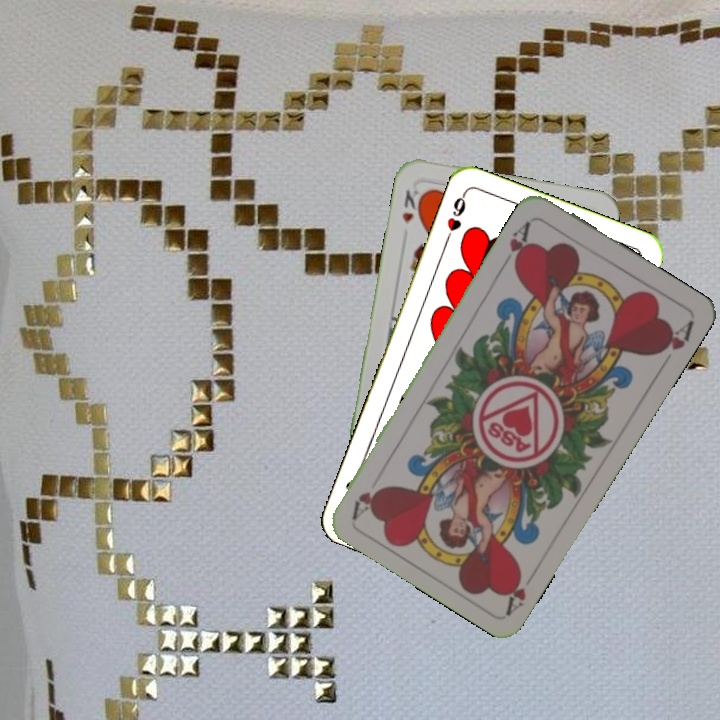H9: (441, 189, 469, 246)
HA: (500, 562, 541, 616), (498, 217, 534, 273)
HK: (398, 185, 426, 226)
